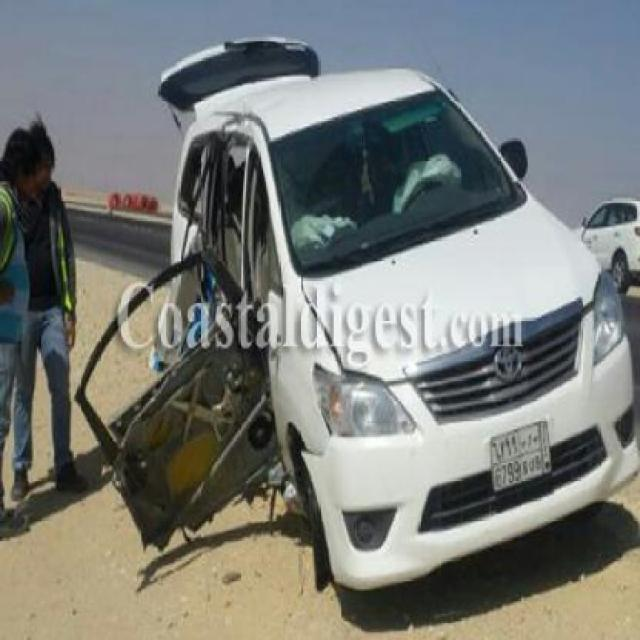license_plate: (486, 415, 554, 497)
